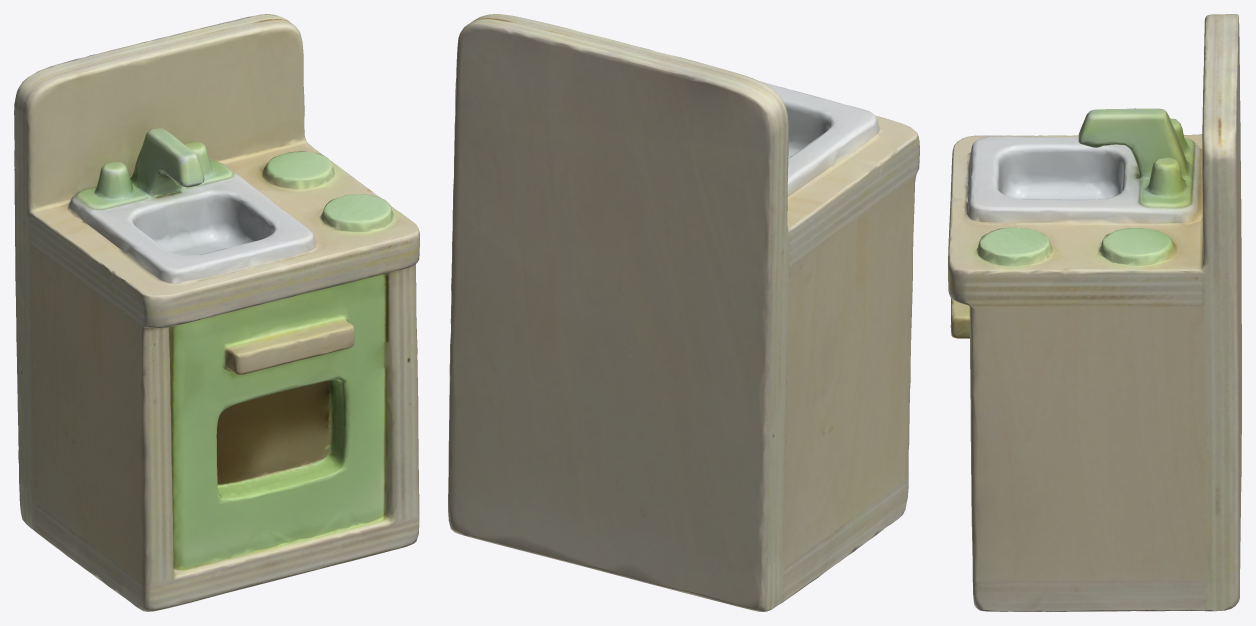
File: 3D_Dollhouse_Sink.glb
3 renders of one model, left to right at view 1: azimuth 30°, elevation 25°; view 2: azimuth 150°, elevation 25°; view 3: azimuth 270°, elevation 25°, orthographic. The views are drawn at different scales.
Parts seen in each view (by area): view 1: 3D_Dollhouse_Sink; view 2: 3D_Dollhouse_Sink; view 3: 3D_Dollhouse_Sink.
Boxes of the visible parts, bbox=[...] form: 3D_Dollhouse_Sink: bbox=[14, 14, 419, 611]; 3D_Dollhouse_Sink: bbox=[448, 14, 919, 611]; 3D_Dollhouse_Sink: bbox=[948, 14, 1241, 611].
Size of the model in its own units: 0.0854 by 0.1311 by 0.0734.
1 material, 1 textured.
